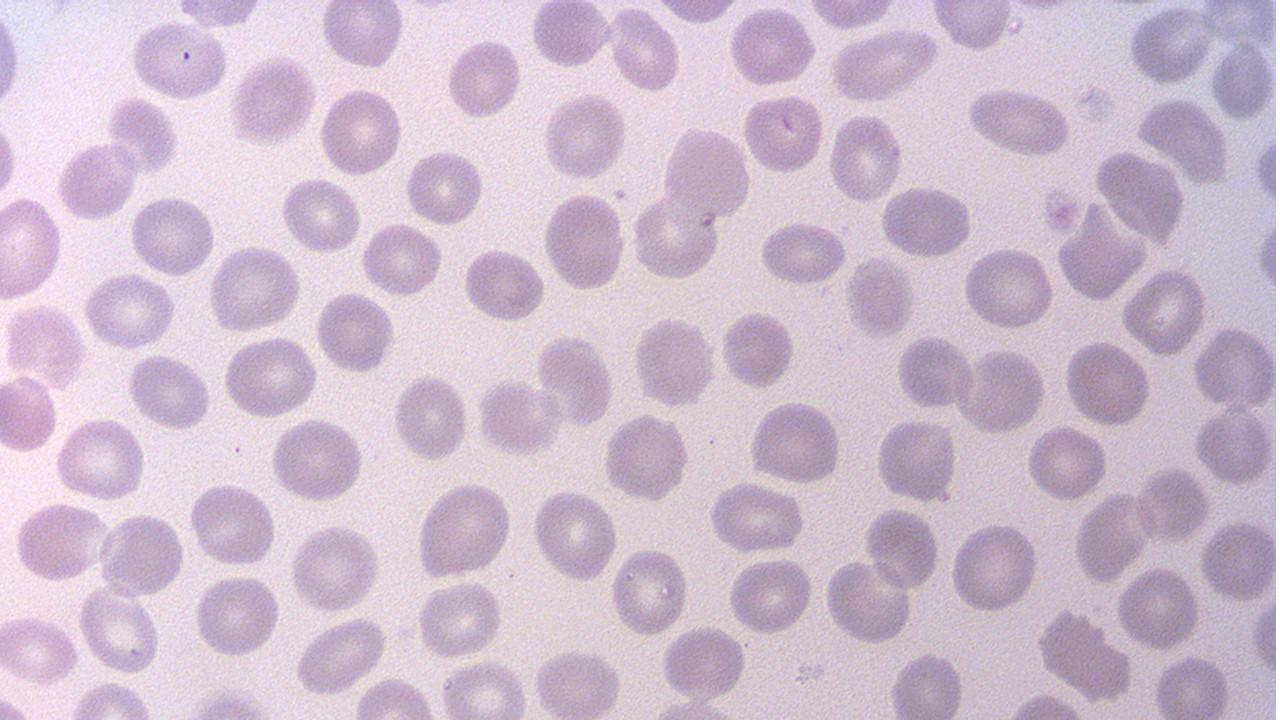RBC: (414, 478, 512, 582), (660, 123, 752, 224), (226, 49, 318, 149), (541, 189, 628, 294), (207, 241, 305, 334), (126, 18, 229, 104), (947, 521, 1041, 615), (530, 487, 621, 584), (1095, 147, 1185, 245), (826, 25, 939, 103), (960, 242, 1057, 332), (630, 312, 718, 411), (268, 416, 367, 504), (962, 83, 1076, 159), (288, 524, 384, 614), (52, 414, 148, 504), (746, 398, 845, 485), (952, 344, 1045, 436), (599, 411, 692, 503), (221, 334, 320, 420), (12, 499, 112, 583), (821, 556, 915, 644), (540, 90, 628, 184), (534, 330, 616, 430), (628, 194, 722, 281), (290, 616, 390, 697), (1119, 266, 1207, 358), (94, 512, 186, 598), (186, 482, 277, 568), (77, 583, 163, 674), (127, 192, 218, 278), (317, 84, 402, 176), (2, 302, 90, 390), (1063, 338, 1151, 426), (81, 271, 179, 350), (726, 5, 818, 89), (608, 544, 690, 638), (877, 182, 977, 259), (474, 372, 563, 458), (191, 573, 280, 659), (1115, 564, 1201, 652), (874, 416, 958, 506), (414, 578, 505, 660), (704, 480, 806, 553), (314, 288, 398, 376), (658, 622, 750, 702), (724, 555, 816, 635), (391, 370, 469, 463), (827, 110, 905, 203), (531, 644, 626, 720), (1126, 5, 1214, 87), (1193, 324, 1275, 411), (444, 33, 524, 122), (0, 194, 65, 303), (741, 91, 825, 175), (123, 350, 211, 430), (862, 505, 942, 592), (1070, 494, 1146, 585), (1191, 404, 1275, 486), (462, 242, 546, 324), (278, 174, 364, 254), (718, 304, 796, 392), (403, 145, 485, 228), (54, 138, 136, 220), (360, 219, 444, 299), (1022, 423, 1108, 501), (1198, 516, 1274, 604), (608, 6, 682, 95), (1132, 462, 1212, 544), (844, 255, 918, 341), (757, 218, 848, 287), (318, 0, 406, 71), (894, 334, 974, 412), (0, 611, 82, 687), (106, 94, 180, 178), (437, 655, 531, 719), (528, 0, 611, 70), (886, 650, 968, 718), (1209, 38, 1275, 121), (1148, 654, 1234, 716), (1, 370, 59, 455), (930, 0, 1014, 53), (800, 1, 904, 32), (0, 4, 25, 116), (648, 0, 743, 27), (1249, 132, 1275, 209), (0, 107, 19, 204)
